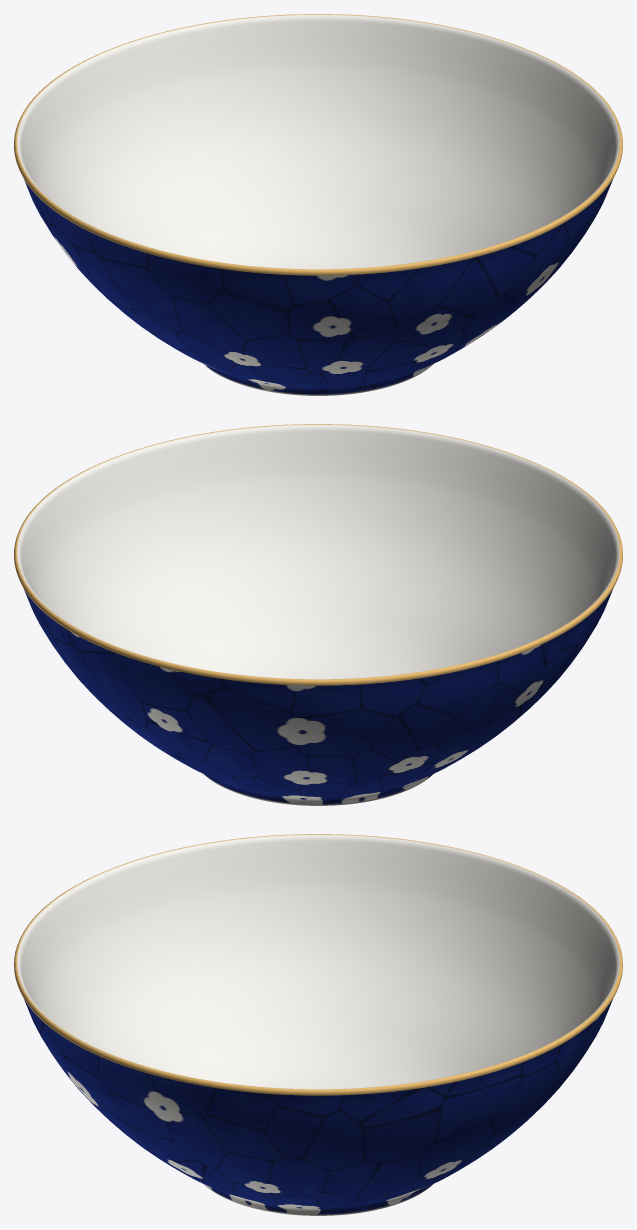
Rendered from prunus-bowl.glb.
The picture shows the model from 3 angles, top to bottom: view 1: azimuth 30°, elevation 25°; view 2: azimuth 150°, elevation 25°; view 3: azimuth 270°, elevation 25°; orthographic projection.
Visible parts, largest first — view 1: prunus-bowl; view 2: prunus-bowl; view 3: prunus-bowl.
Boxes of the visible parts, bbox=[...] form: prunus-bowl: bbox=[14, 14, 622, 395]; prunus-bowl: bbox=[14, 424, 622, 805]; prunus-bowl: bbox=[14, 834, 622, 1215].
Bounding box in the file's own units: 0.2103 × 0.0771 × 0.2103.
Materials: 1 (1 with a texture image).
